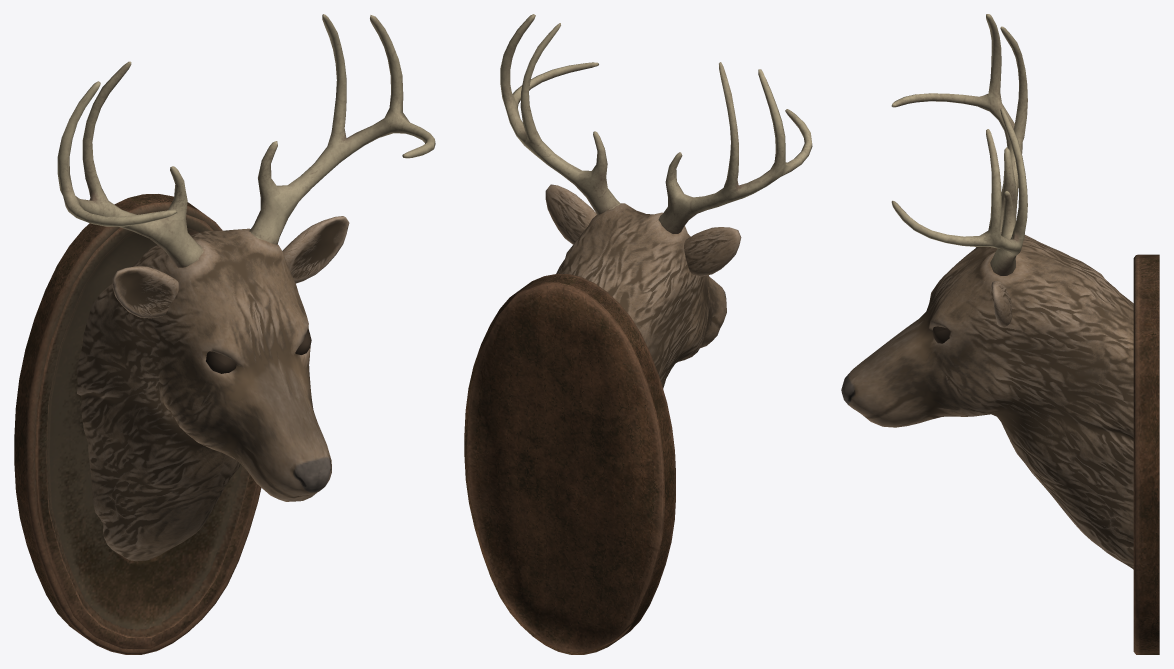
Rendered from deer_head.glb.
3 renders of one model, left to right at view 1: azimuth 30°, elevation 25°; view 2: azimuth 150°, elevation 25°; view 3: azimuth 270°, elevation 25°, orthographic. The views are drawn at different scales.
Parts seen in each view (by area): view 1: Deer_head; view 2: Deer_head; view 3: Deer_head.
Part boxes in pixels (x1=…): Deer_head: x1=14, y1=14, x2=435, y2=654; Deer_head: x1=464, y1=14, x2=812, y2=654; Deer_head: x1=841, y1=14, x2=1159, y2=654.
Size of the model in its own units: 0.8195 by 1.52 by 0.7554.
1 material, 1 textured.
